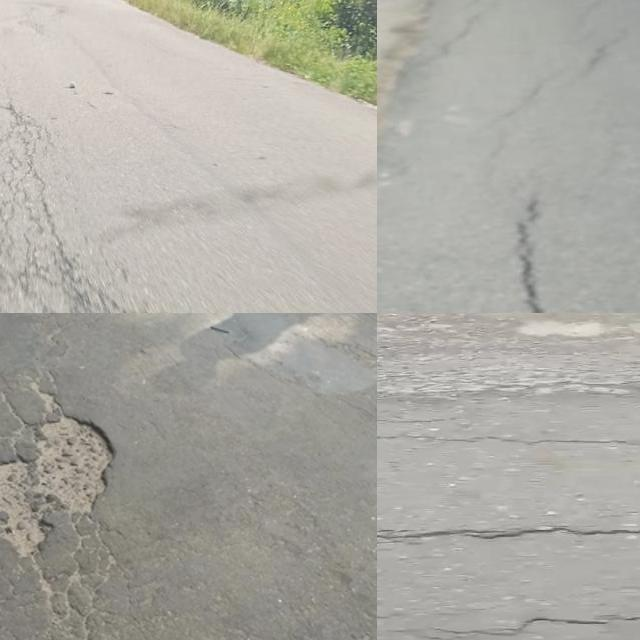Lubang: (0, 414, 116, 550)
Melintang: (377, 512, 640, 553)
Memanjang: (503, 195, 563, 313)
Retak Buaya: (0, 86, 156, 313)
